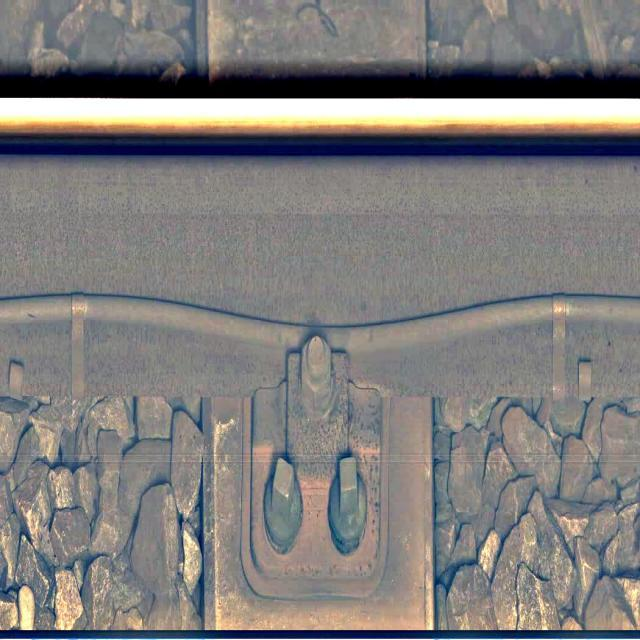Good Fasteners: (241, 335, 391, 599)
